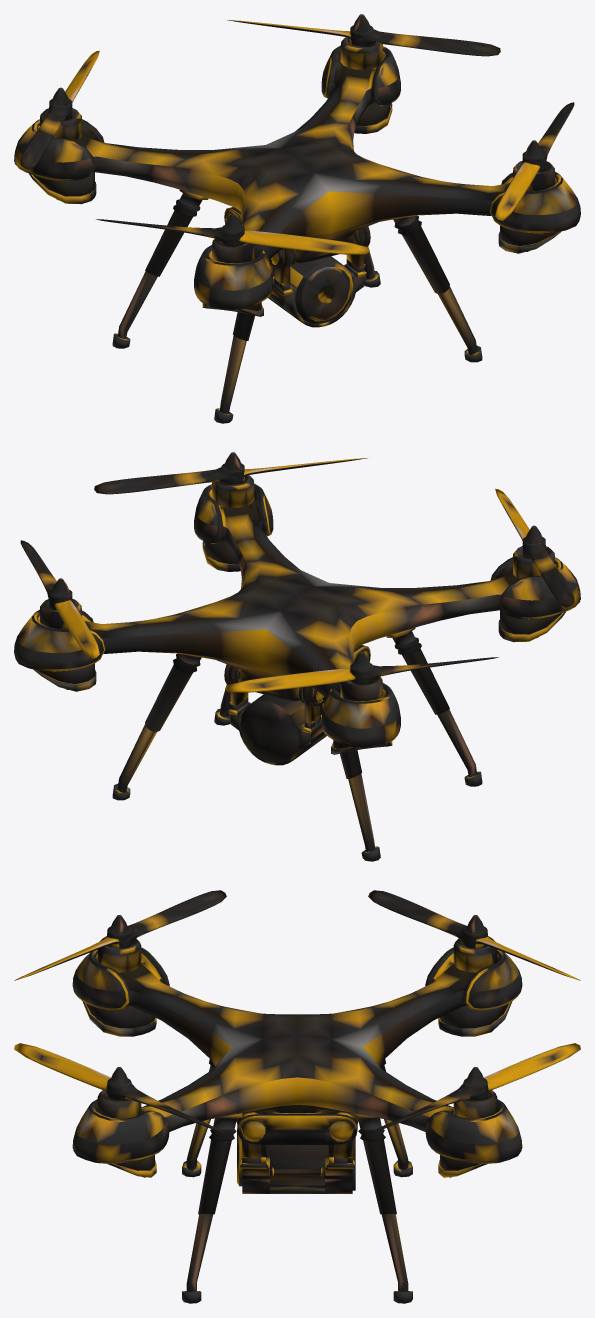
Rendered from baked_drone.glb.
The picture shows the model from 3 angles, top to bottom: view 1: azimuth 30°, elevation 25°; view 2: azimuth 150°, elevation 25°; view 3: azimuth 270°, elevation 25°; orthographic projection. The views are drawn at different scales.
Parts seen in each view (by area): view 1: DroneA; view 2: DroneA; view 3: DroneA.
Part boxes in pixels (x1,y1,x2,y2): DroneA: (14,14,580,423); DroneA: (14,452,580,861); DroneA: (14,890,580,1303).
Bounding box in the file's own units: 2 × 0.9453 × 1.98.
